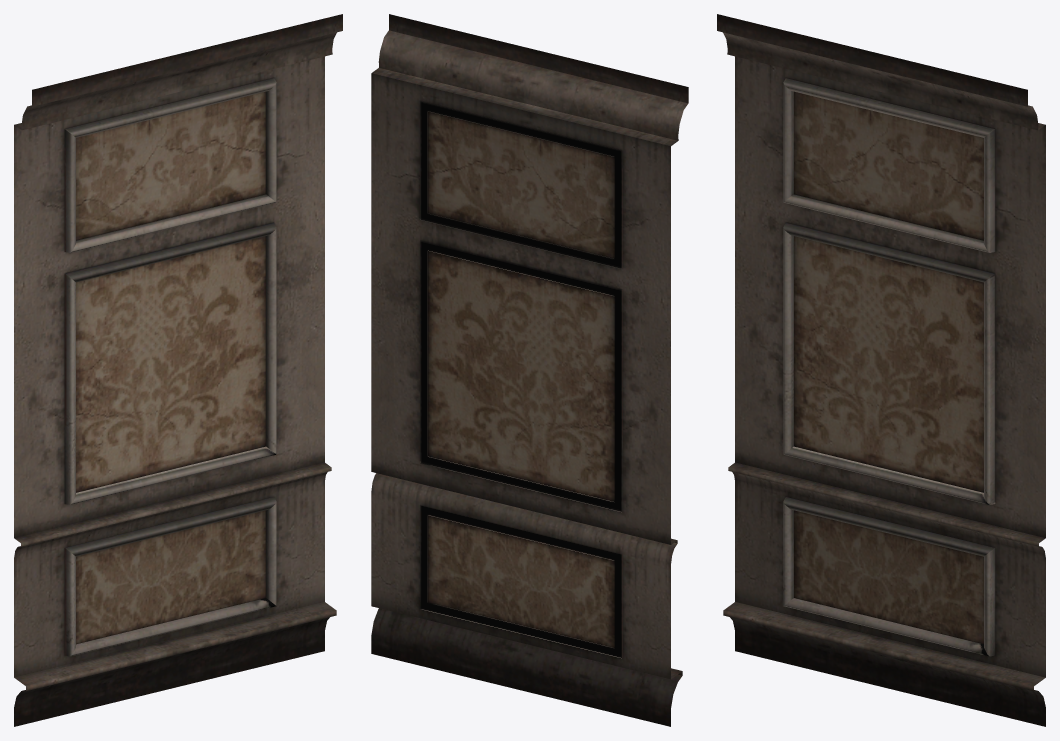
Rendered from 42_short.dae.
3 views of the same model, side by side, from view 1: azimuth 30°, elevation 25°; view 2: azimuth 150°, elevation 25°; view 3: azimuth 330°, elevation 25° (orthographic). The views are drawn at different scales.
Parts seen in each view (by area): view 1: mansionbase_short; view 2: mansionbase_short; view 3: mansionbase_short.
Boxes of the visible parts, box(x1,y1,x2,y2) form: mansionbase_short: box(14, 14, 342, 726); mansionbase_short: box(371, 14, 688, 726); mansionbase_short: box(717, 14, 1045, 726).
Bounding box in the file's own units: 2 × 4 × 0.2045.
Materials: 1 (1 with a texture image).
